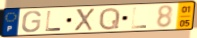8: (156, 4, 175, 30)
G: (20, 10, 43, 34)
L: (130, 7, 148, 30), (45, 10, 63, 33)
Q: (97, 7, 121, 32)
X: (74, 8, 96, 32)
